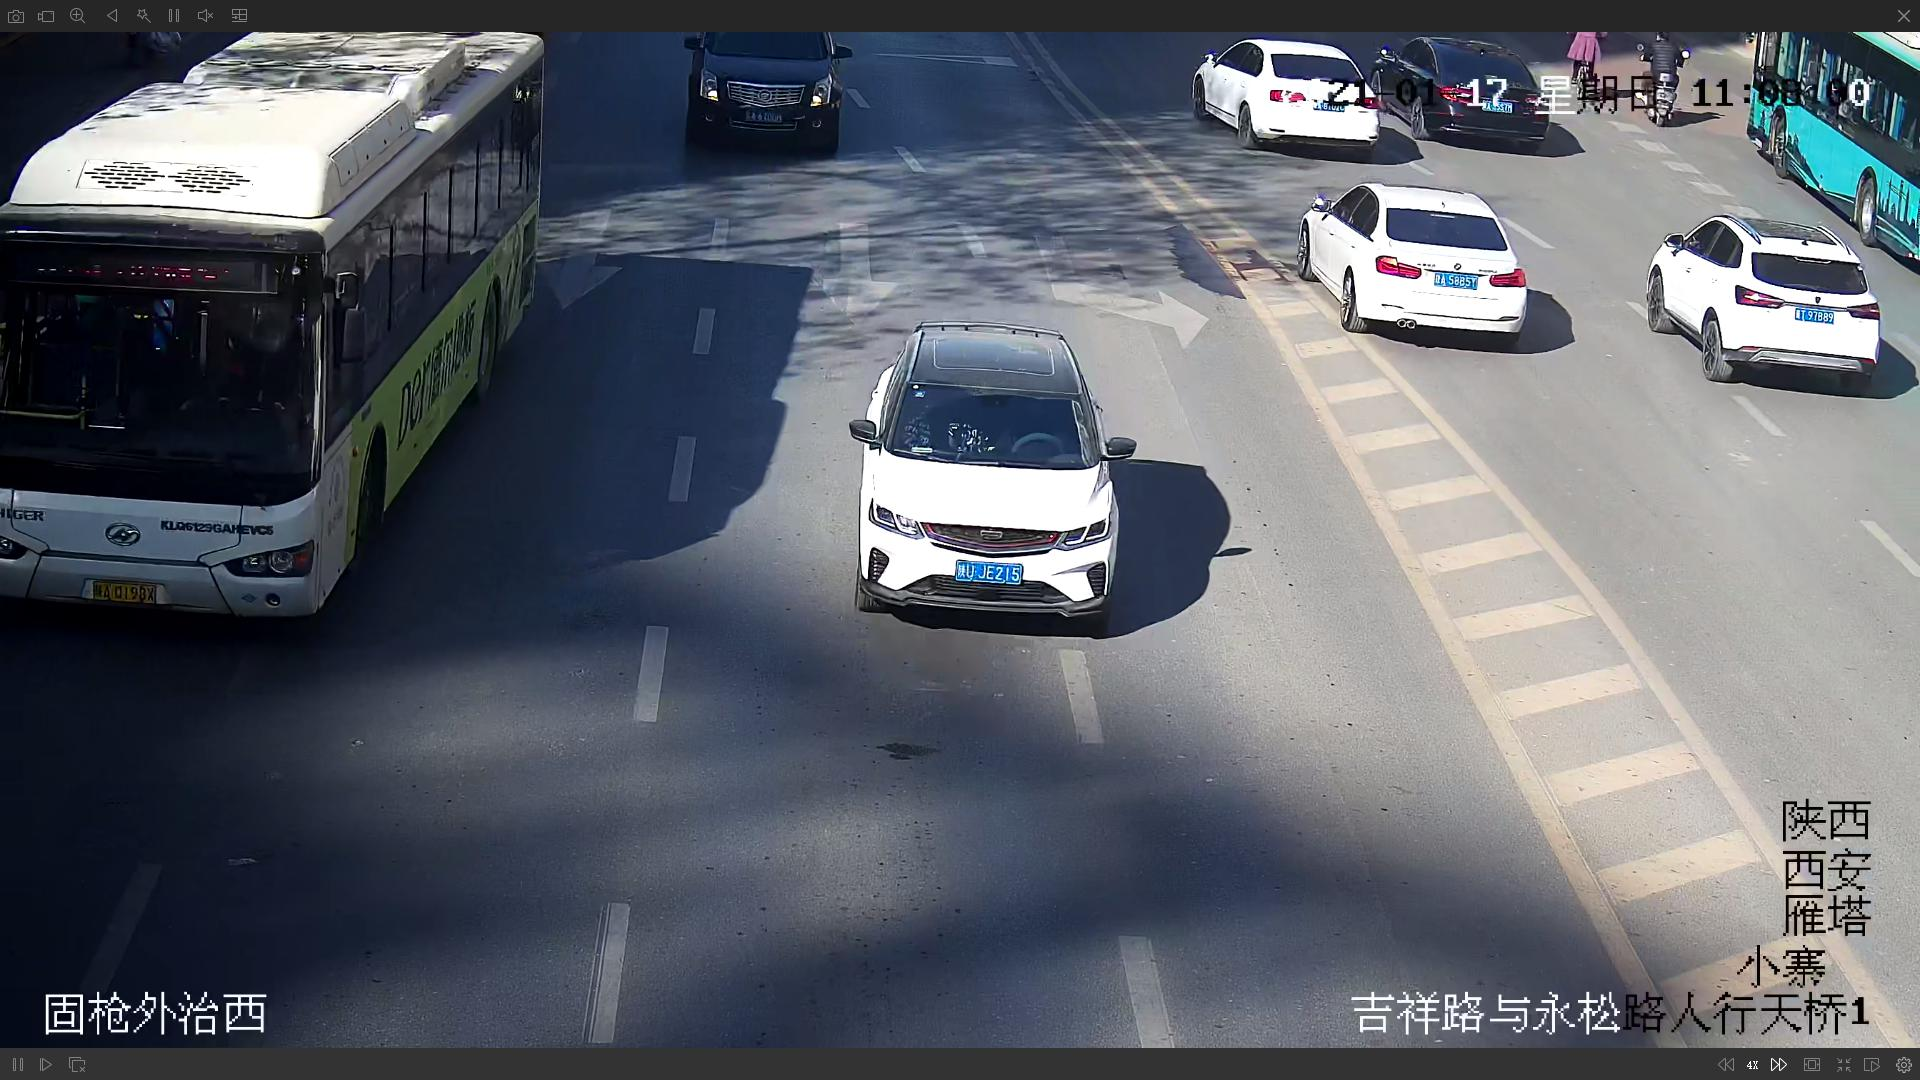white: (1, 25, 558, 622), (844, 316, 1131, 618), (1654, 55, 1687, 119)
